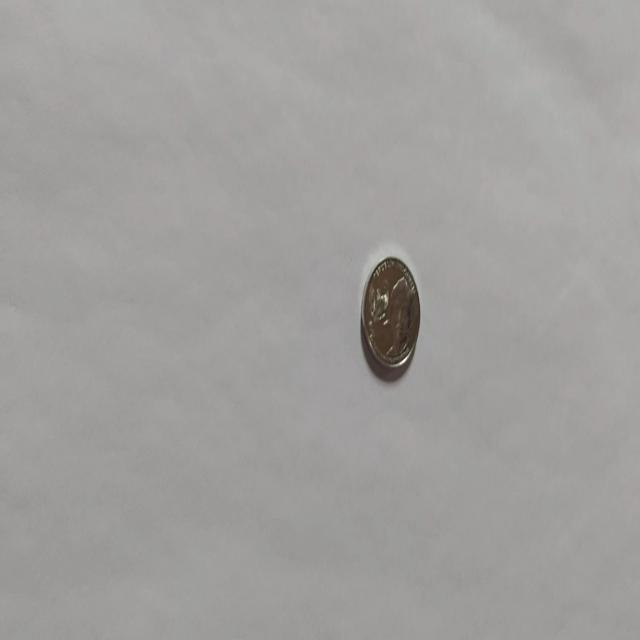dua ratus rupiah: (360, 254, 420, 374)
